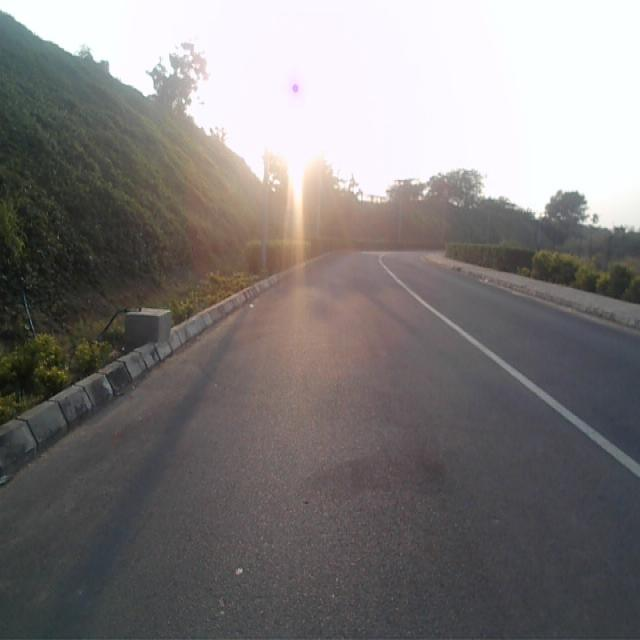lane: (0, 255, 640, 640)
